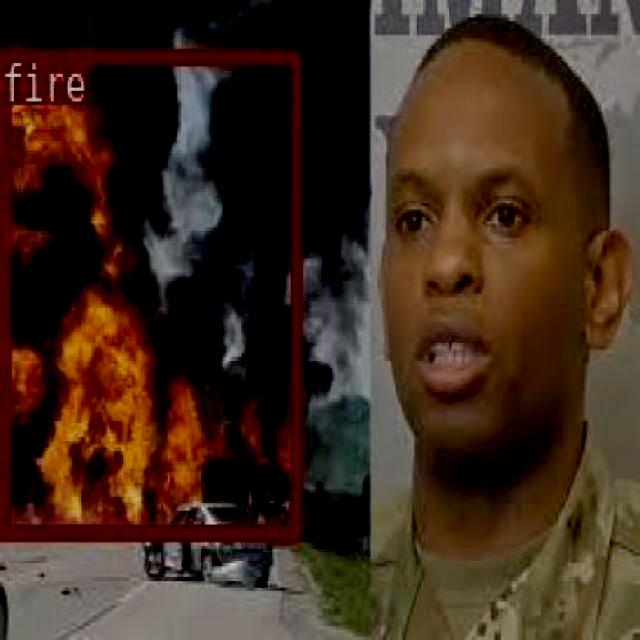fire: (0, 46, 300, 540)
